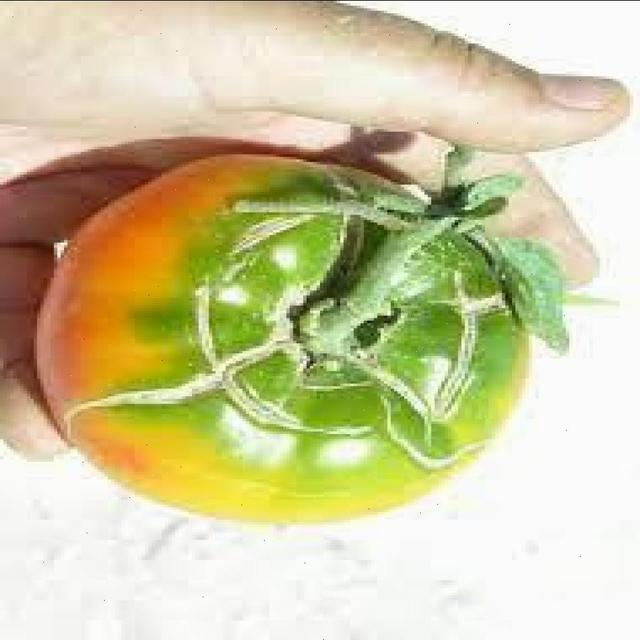Cracking Fruit: (60, 68, 318, 298)
